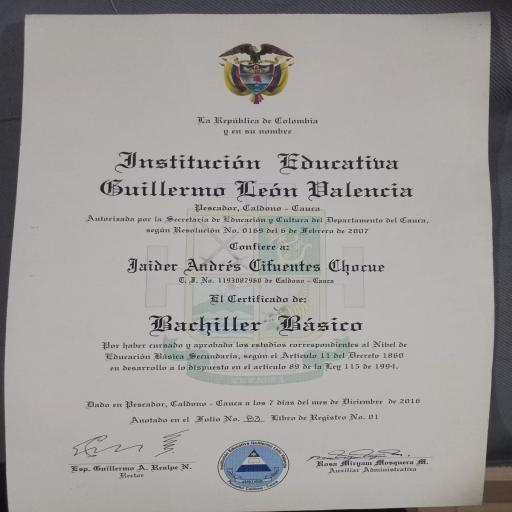bachillerato: (135, 310, 378, 338)
diploma: (6, 14, 493, 511), (7, 12, 494, 506)
escudo: (215, 36, 300, 110)
firma: (51, 423, 208, 484), (297, 436, 439, 485)
institucion: (78, 144, 438, 206)
nombre: (112, 251, 395, 279)
